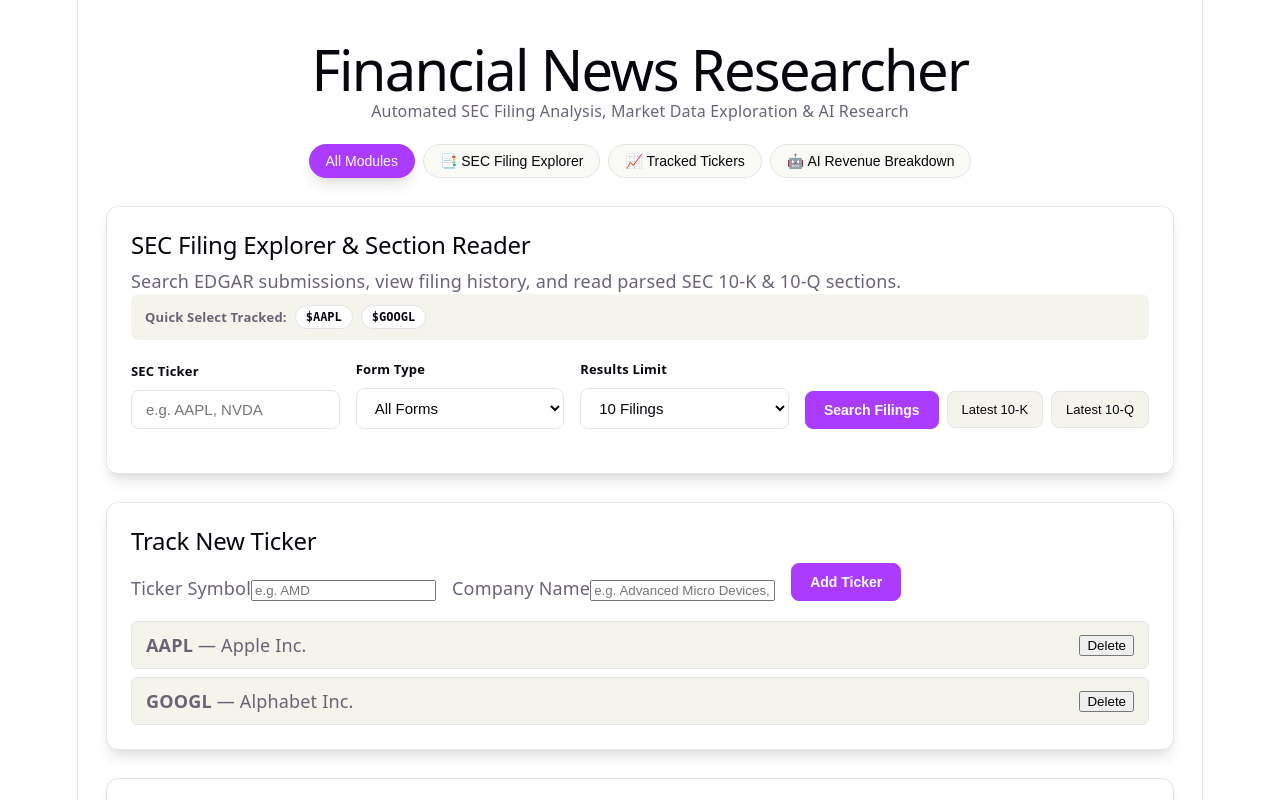
Test case: App Component Integration Tests › displays error banner if deleting ticker fails
Expected: the text "AAPL" is shown, x1=146 y1=633 x2=193 y2=657
Click the button "Delete" in the row of "Apple Inc.". click: (1107, 645)
box: x1=1080 y1=635 x2=1134 y2=656
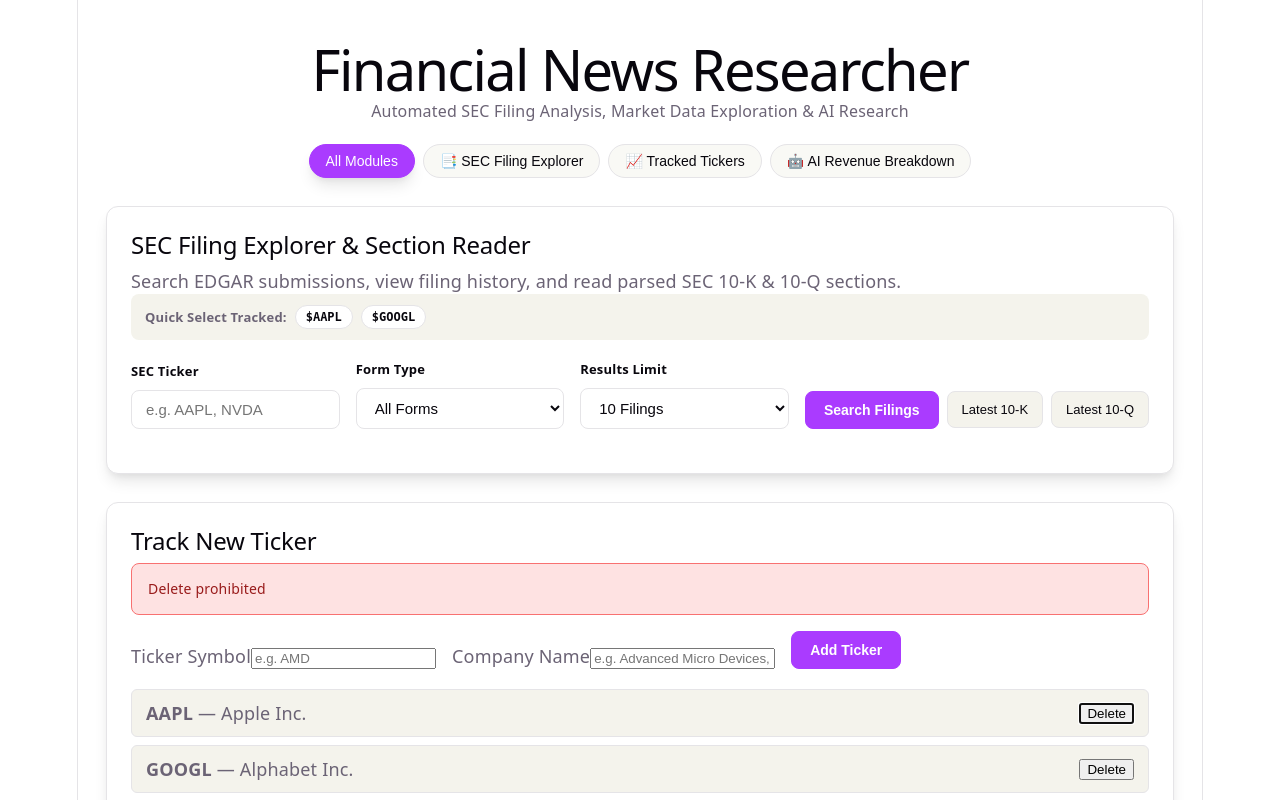
Expected: the text "Delete prohibited" is shown, x1=131 y1=563 x2=1149 y2=615
